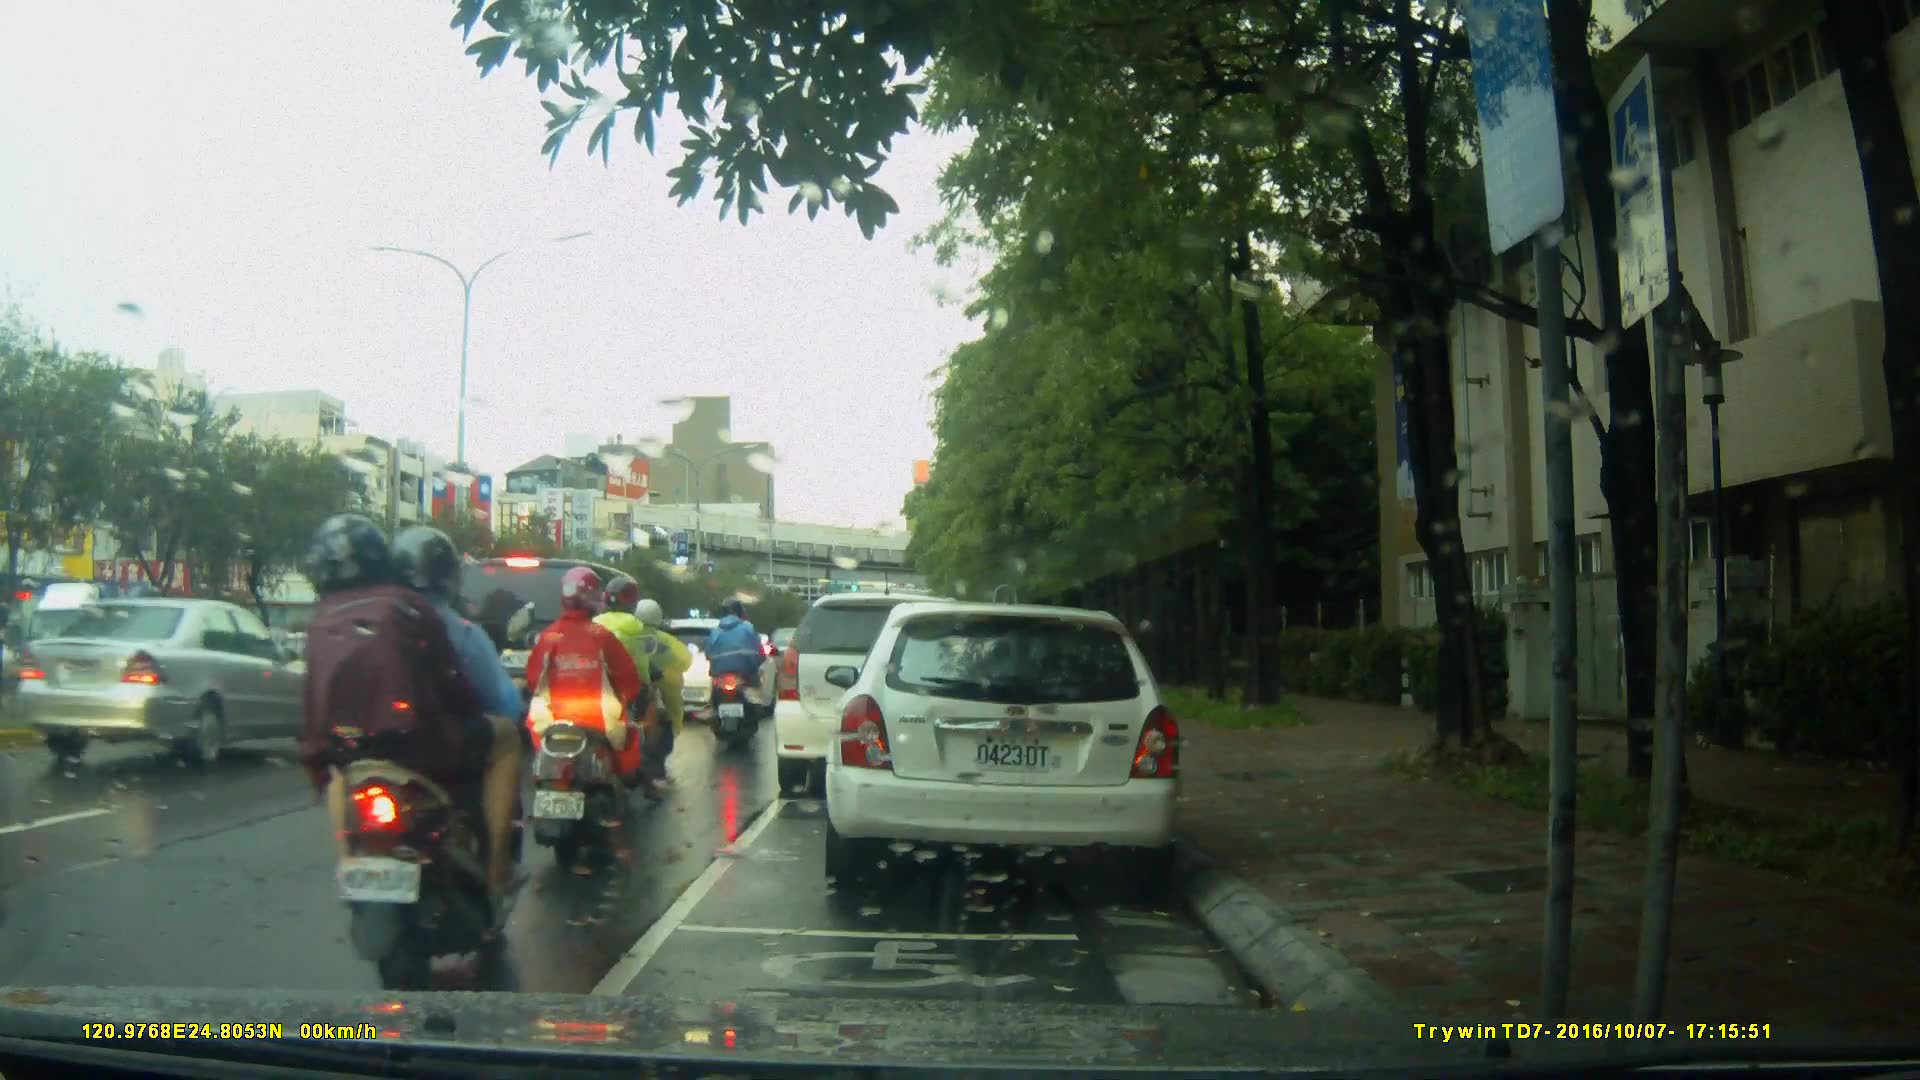rider: (308, 517, 526, 974), (521, 563, 648, 872), (324, 579, 448, 774), (616, 596, 692, 781), (702, 593, 766, 746)
vehicle: (822, 604, 1188, 883), (18, 595, 336, 768), (774, 595, 995, 802), (442, 556, 664, 744)
